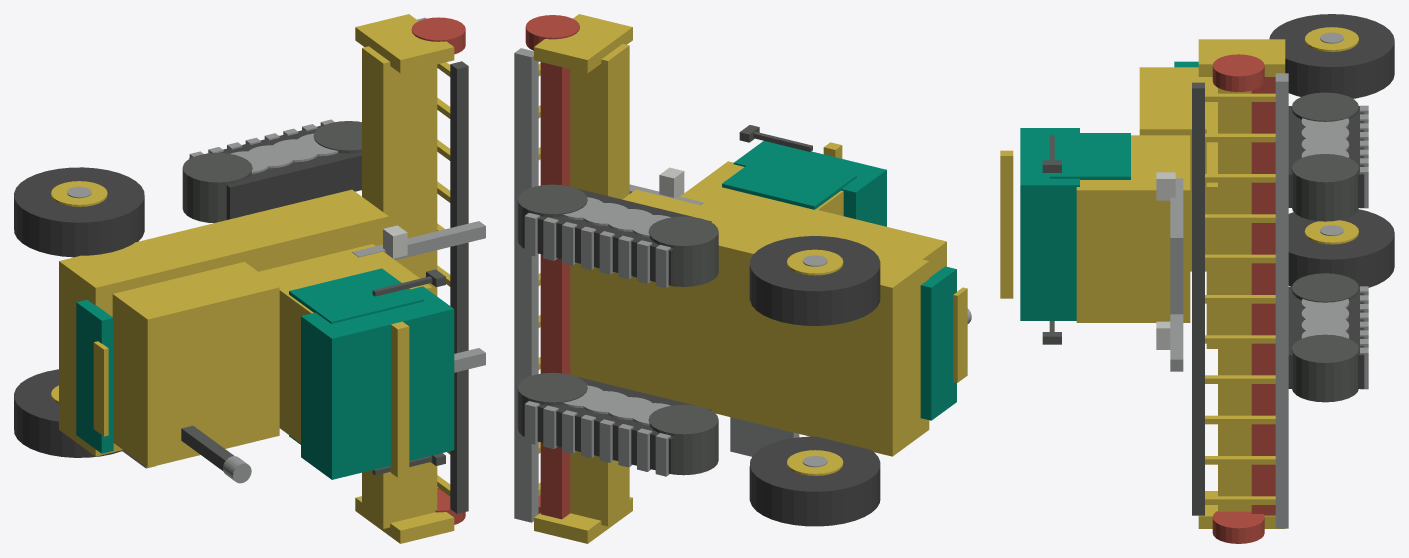
Rendered from NewHolland8080_EXITA_YELLOW_GREEN.glb.
3 views of the same model, side by side, from view 1: azimuth 30°, elevation 25°; view 2: azimuth 150°, elevation 25°; view 3: azimuth 270°, elevation 25° (orthographic). The views are drawn at different scales.
Parts seen in each view (by area): view 1: NH8080_001, NH8080_003, NH8080_000, NH8080_011, NH8080_066, NH8080_013, NH8080_002, NH8080_046, NH8080_077, NH8080_007, NH8080_063, NH8080_053 (+14 smaller); view 2: NH8080_000, NH8080_011, NH8080_010, NH8080_066, NH8080_012, NH8080_063, NH8080_077, NH8080_007, NH8080_003, NH8080_001, NH8080_002, NH8080_053 (+32 smaller); view 3: NH8080_002, NH8080_011, NH8080_003, NH8080_010, NH8080_066, NH8080_012, NH8080_013, NH8080_063, NH8080_001, NH8080_054, NH8080_037, NH8080_007 (+30 smaller).
Part boxes in pixels (<box>): NH8080_001: <box>112,262,279,467</box>; NH8080_003: <box>301,286,454,479</box>; NH8080_000: <box>59,189,388,456</box>; NH8080_011: <box>362,46,437,528</box>; NH8080_066: <box>14,167,144,257</box>; NH8080_013: <box>450,61,468,513</box>; NH8080_002: <box>258,244,431,443</box>; NH8080_046: <box>189,125,361,219</box>; NH8080_077: <box>76,299,113,453</box>; NH8080_007: <box>289,268,424,323</box>; NH8080_063: <box>14,369,121,457</box>; NH8080_053: <box>182,153,252,222</box>; NH8080_000: <box>599,189,929,456</box>; NH8080_011: <box>570,44,629,526</box>; NH8080_010: <box>540,62,570,519</box>; NH8080_066: <box>749,236,880,325</box>; NH8080_012: <box>514,48,538,522</box>; NH8080_063: <box>749,436,880,526</box>; NH8080_077: <box>920,266,956,420</box>; NH8080_007: <box>722,152,856,209</box>; NH8080_003: <box>733,141,886,226</box>; NH8080_001: <box>791,209,946,277</box>; NH8080_002: <box>680,161,843,226</box>; NH8080_053: <box>648,216,718,286</box>; NH8080_002: <box>1076,135,1190,322</box>; NH8080_011: <box>1218,88,1251,511</box>; NH8080_003: <box>1020,128,1079,320</box>; NH8080_010: <box>1251,77,1275,515</box>; NH8080_066: <box>1269,14,1394,98</box>; NH8080_012: <box>1275,73,1288,528</box>; NH8080_013: <box>1192,82,1204,515</box>; NH8080_063: <box>1288,209,1394,287</box>; NH8080_001: <box>1139,67,1206,271</box>; NH8080_054: <box>1291,154,1358,221</box>; NH8080_037: <box>1291,334,1358,402</box>; NH8080_007: <box>1049,133,1130,179</box>.
Bounding box in the file's own units: 4.24 × 4.95 × 3.79.
